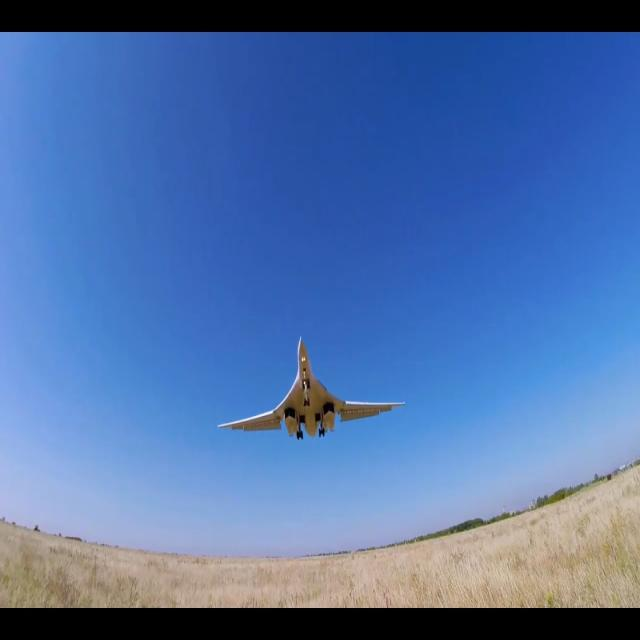MIL_Plane: (217, 336, 406, 441)
